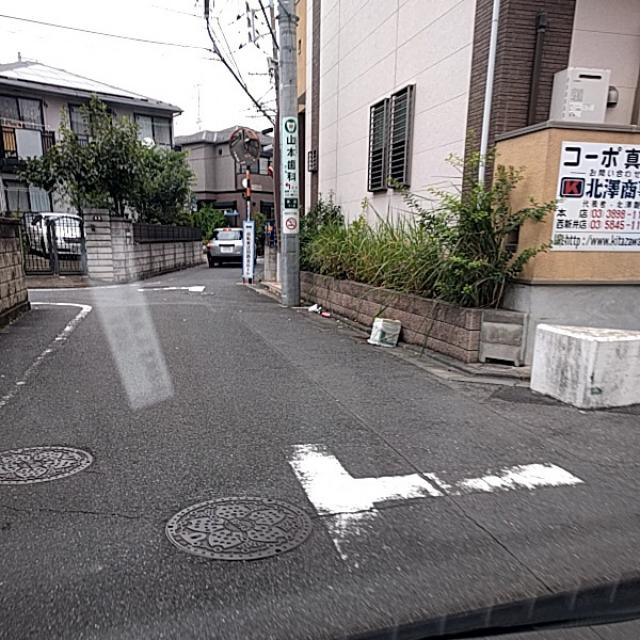pothole: (59, 486, 161, 544)
